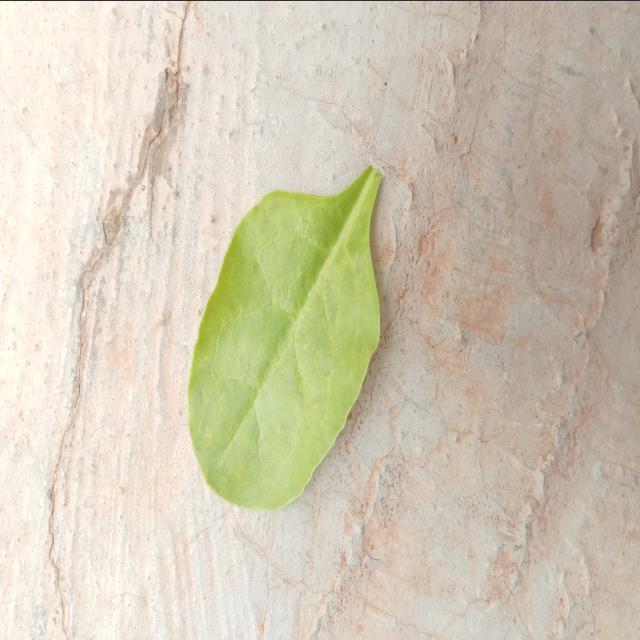leaf: (186, 164, 383, 511)
